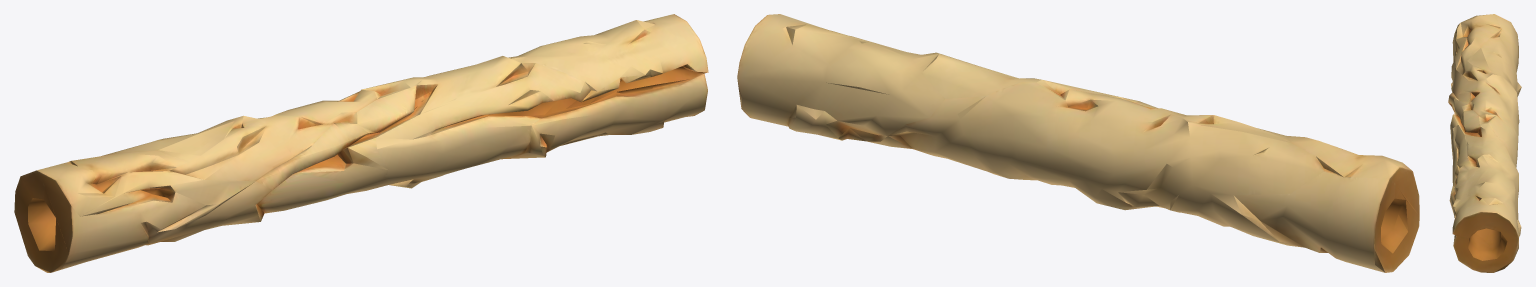
Rendered from fetchStick.glb.
3 views of the same model, side by side, from view 1: azimuth 30°, elevation 25°; view 2: azimuth 150°, elevation 25°; view 3: azimuth 270°, elevation 25° (orthographic). The views are drawn at different scales.
Parts seen in each view (by area): view 1: model; view 2: model; view 3: model.
Boxes of the visible parts, left/top/right/bottom form: model: left=14, top=14, right=708, bottom=272; model: left=737, top=14, right=1419, bottom=272; model: left=1448, top=14, right=1521, bottom=272.
Size of the model in its own units: 1.9 by 0.2891 by 0.2951.
Materials: 1 (1 with a texture image).
